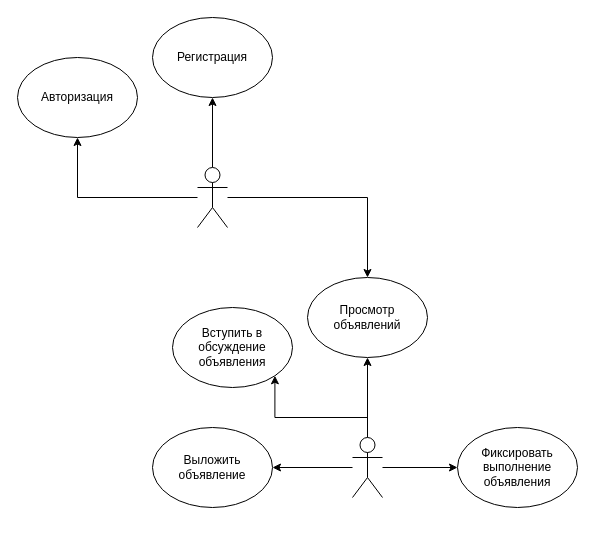
Some shapes in this 595 by 536 pixel diagram are drawn without their labels. The centre of each missing label's shape, as x and y in pixels:
"Гость" goes at (x=212, y=197).
"Пользователь" goes at (x=367, y=467).
